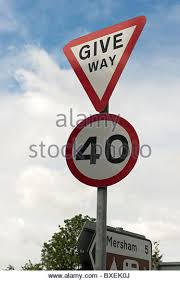Speed_limit_40km: (67, 115, 139, 185)
